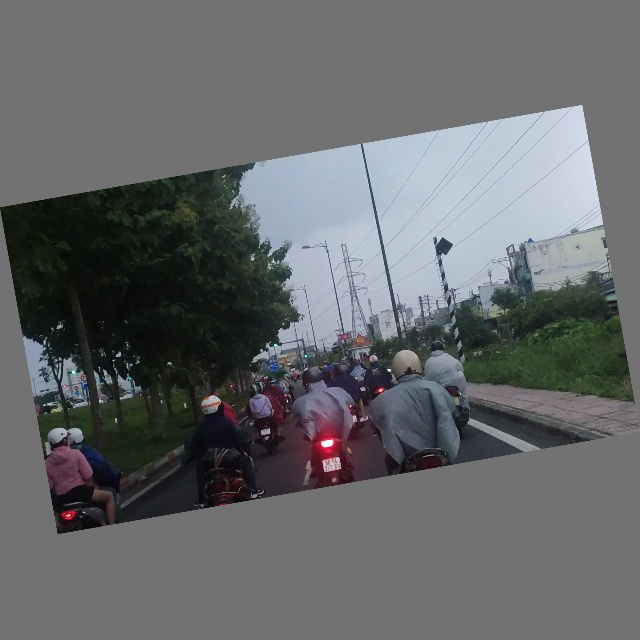W.210: (354, 333, 365, 345)
